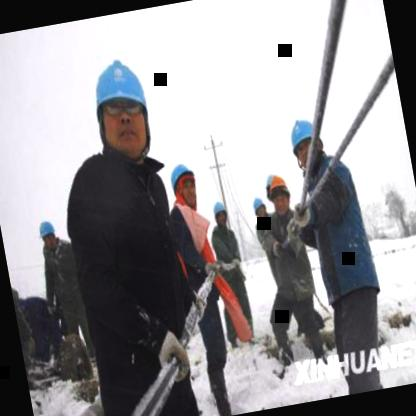helmet: (80, 48, 161, 171), (284, 115, 322, 170), (164, 157, 201, 213), (262, 168, 294, 218), (35, 218, 59, 254), (210, 197, 231, 230), (249, 196, 269, 221)
